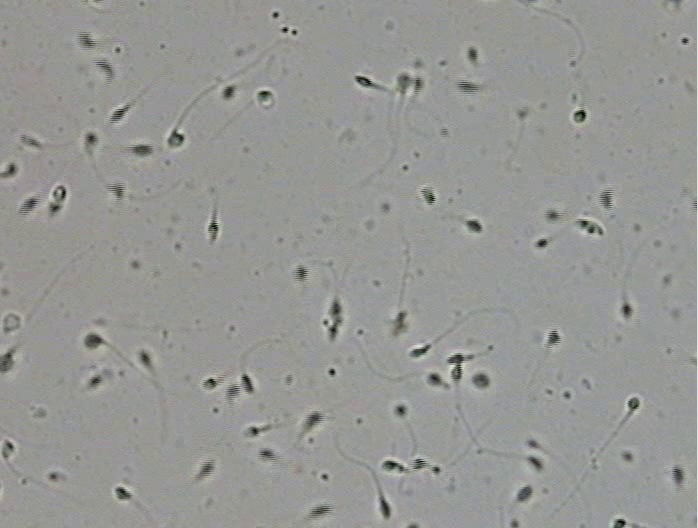S: (328, 302, 343, 341), (576, 219, 603, 235), (303, 411, 325, 430), (93, 59, 114, 78), (18, 197, 39, 216), (308, 505, 333, 519), (77, 31, 96, 49), (106, 183, 126, 200), (456, 80, 479, 94), (599, 189, 614, 210), (292, 264, 309, 282), (109, 107, 128, 123), (132, 144, 155, 157), (1, 352, 15, 373), (240, 373, 254, 394), (516, 485, 533, 502), (420, 187, 436, 205), (199, 460, 214, 479), (83, 334, 103, 348), (207, 219, 219, 242), (379, 497, 391, 519), (168, 132, 184, 148), (224, 384, 240, 400), (114, 486, 132, 500), (671, 465, 685, 483), (354, 75, 373, 88), (473, 373, 489, 388), (397, 74, 411, 91), (52, 184, 66, 201), (528, 456, 543, 471), (258, 449, 275, 462), (394, 312, 407, 329), (547, 329, 560, 346), (409, 347, 429, 358), (451, 364, 463, 382), (447, 353, 465, 365), (83, 133, 98, 147), (138, 352, 152, 367), (409, 458, 428, 469), (466, 219, 482, 232), (2, 441, 14, 458), (544, 209, 560, 221), (221, 86, 234, 100), (48, 202, 62, 215), (88, 376, 102, 389), (573, 109, 586, 123), (202, 378, 217, 390), (243, 426, 258, 438), (381, 460, 398, 470), (627, 397, 640, 410), (5, 163, 17, 177), (621, 303, 632, 318), (394, 405, 407, 417), (428, 373, 441, 385), (257, 91, 272, 101), (414, 77, 423, 93), (467, 48, 478, 61), (613, 518, 627, 528), (526, 438, 538, 448), (535, 239, 548, 248), (692, 200, 697, 210)
